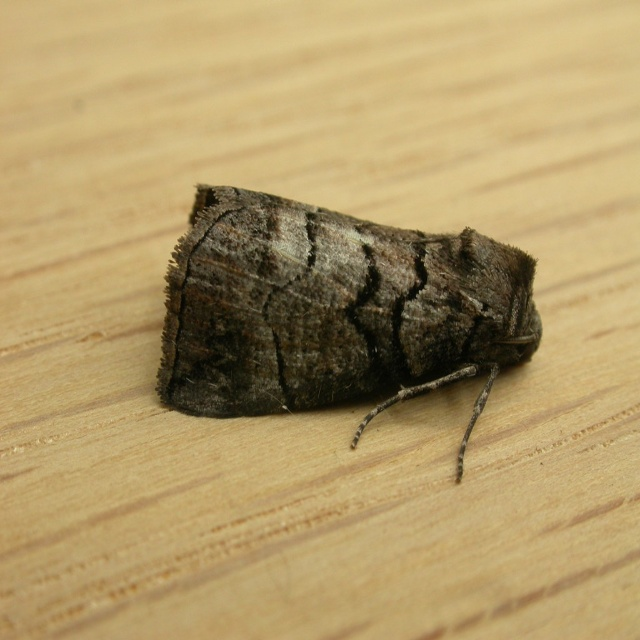Moths and butterflies: (152, 181, 546, 485)
